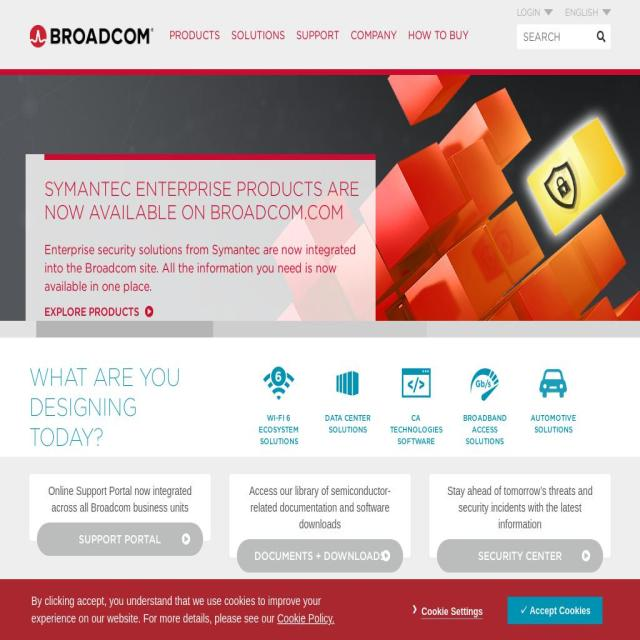button: (29, 7, 158, 62), (43, 302, 376, 320), (36, 522, 204, 556), (236, 539, 404, 573), (436, 539, 604, 573), (248, 362, 310, 448), (454, 362, 516, 448), (386, 362, 446, 448), (522, 362, 584, 437), (317, 362, 378, 437), (407, 18, 470, 52), (230, 18, 286, 52), (168, 18, 221, 52), (349, 18, 398, 52), (295, 18, 341, 52), (520, 603, 592, 617), (421, 604, 483, 619), (552, 6, 610, 18), (504, 6, 552, 18)
field: (517, 24, 611, 49)
heading: (29, 362, 210, 453), (44, 170, 372, 218)
image: (0, 75, 640, 338), (213, 321, 427, 338), (426, 321, 640, 338), (468, 363, 501, 405), (263, 363, 295, 405), (332, 363, 364, 405), (400, 363, 432, 405), (538, 363, 570, 405), (0, 320, 34, 338)
link: (277, 612, 334, 625)
text: (44, 239, 369, 295), (428, 474, 610, 558), (230, 474, 410, 558), (29, 474, 210, 542), (31, 594, 321, 625), (248, 412, 310, 448), (454, 412, 516, 448), (386, 412, 446, 448), (254, 548, 386, 564), (522, 412, 584, 437), (317, 412, 378, 437), (44, 303, 139, 319), (477, 548, 562, 564), (79, 532, 161, 548), (408, 27, 469, 42), (231, 27, 285, 42), (169, 27, 220, 42), (351, 27, 397, 42), (296, 27, 340, 42)
